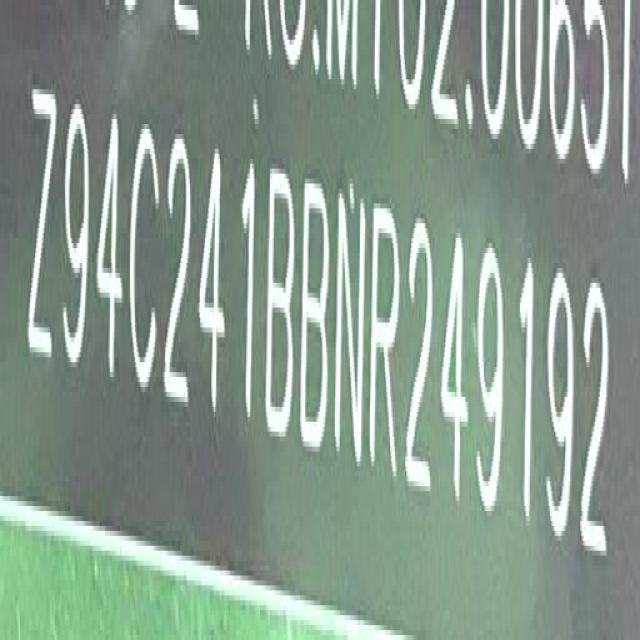1: (515, 256, 537, 537), (236, 160, 257, 438)
2: (582, 280, 613, 562), (165, 129, 195, 412), (407, 222, 436, 499)
4: (442, 235, 473, 512), (96, 109, 126, 387), (200, 148, 229, 426)
9: (547, 271, 575, 548), (64, 99, 91, 377), (478, 244, 503, 516)
B: (302, 174, 333, 453), (266, 165, 296, 444)
C: (132, 126, 164, 400)
N: (336, 182, 366, 470)
R: (370, 202, 402, 479)
Z: (25, 81, 59, 374)
